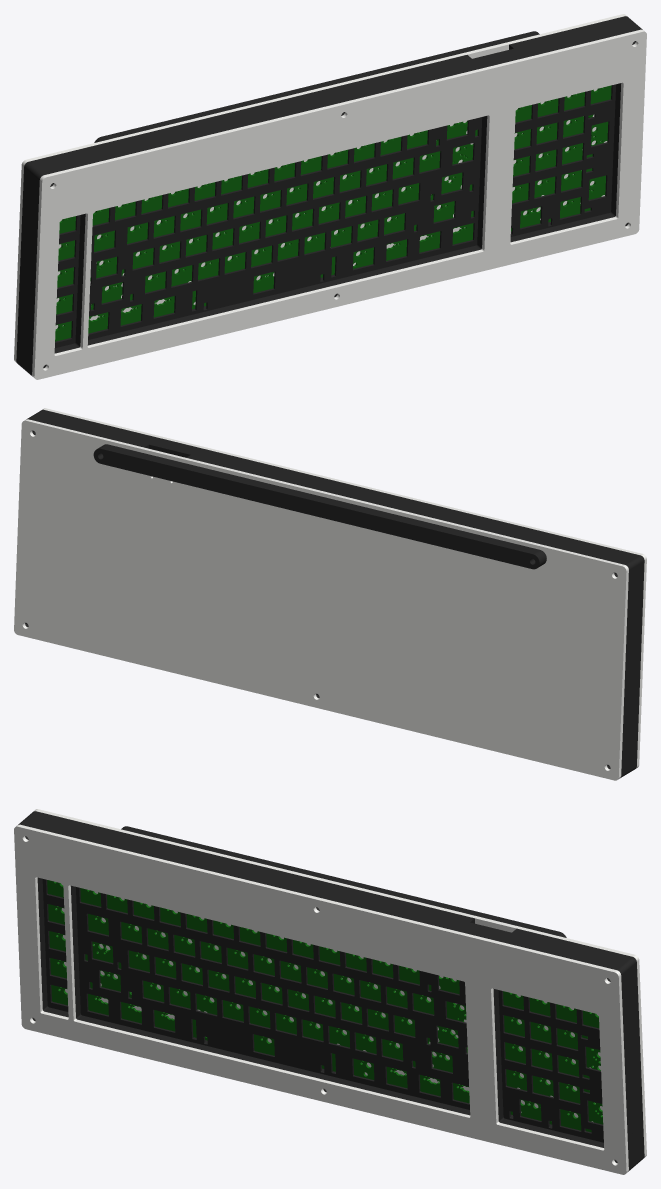
The model's file is jungfrau.fbx.
3 renders of one model, top to bottom at view 1: azimuth 30°, elevation 25°; view 2: azimuth 150°, elevation 25°; view 3: azimuth 330°, elevation 25°, orthographic.
Visible parts, largest first — view 1: Body1 (×12); view 2: Body1 (×12); view 3: Body1 (×12).
Part boxes in pixels (x1,y1,x2,y2): Body1 (×12): (14, 14, 646, 379); Body1 (×12): (14, 408, 646, 780); Body1 (×12): (14, 809, 646, 1174).
Bounding box in the file's own units: 434 × 145 × 35.43.
